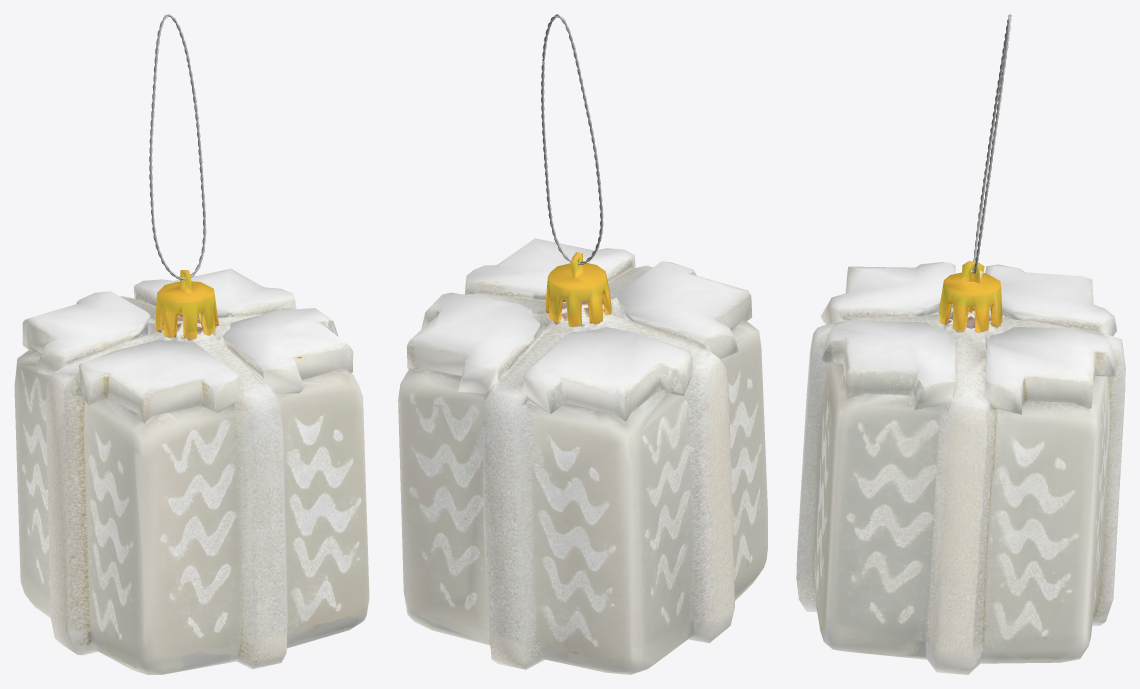
File: Silver_Package.glb
3 views of the same model, side by side, from view 1: azimuth 30°, elevation 25°; view 2: azimuth 150°, elevation 25°; view 3: azimuth 270°, elevation 25° (orthographic). The views are drawn at different scales.
Parts seen in each view (by area): view 1: Mesh1.0, GN Instance; view 2: Mesh1.0, GN Instance; view 3: Mesh1.0, GN Instance.
Part boxes in pixels (x1,y1,x2,y2): Mesh1.0: (14, 268, 369, 674); GN Instance: (149, 14, 206, 280); Mesh1.0: (398, 238, 767, 674); GN Instance: (541, 14, 603, 265); Mesh1.0: (796, 261, 1125, 674); GN Instance: (972, 14, 1011, 273).
Bounding box in the file's own units: 0.0736 × 0.154 × 0.0759.
2 materials, 1 textured.
